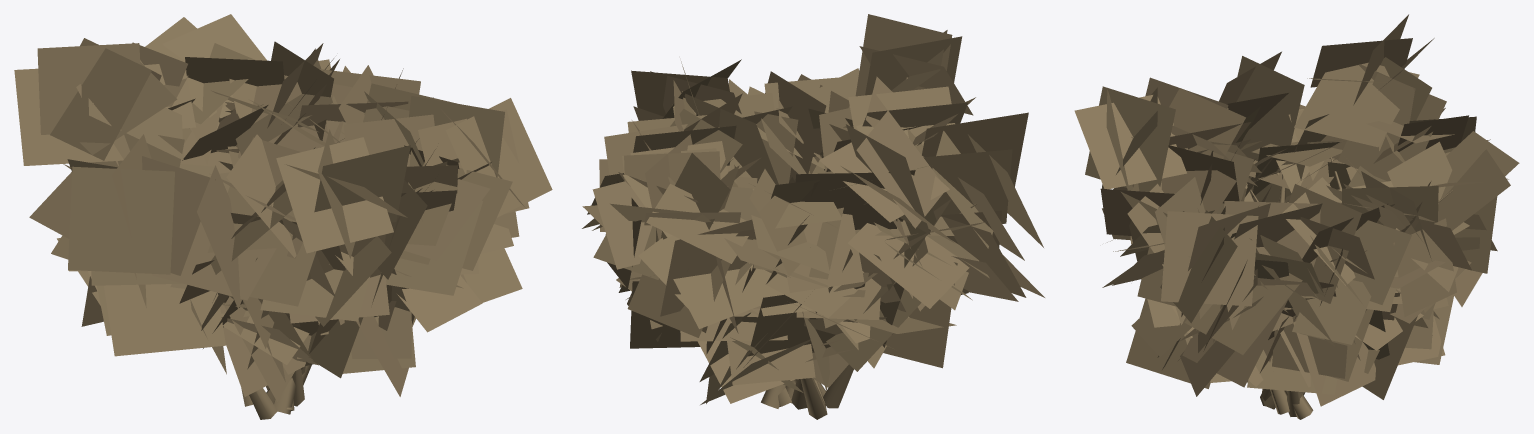
File: bush-1-lod0.glb
The picture shows the model from 3 angles, left to right: view 1: azimuth 30°, elevation 25°; view 2: azimuth 150°, elevation 25°; view 3: azimuth 270°, elevation 25°; orthographic projection. The views are drawn at different scales.
Parts seen in each view (by area): view 1: bush-1-lod0-bush-foliage, bush-1-lod0-oak-bark; view 2: bush-1-lod0-bush-foliage, bush-1-lod0-oak-bark; view 3: bush-1-lod0-bush-foliage, bush-1-lod0-oak-bark.
Part boxes in pixels (x1,y1,x2,y2): bush-1-lod0-bush-foliage: [14, 14, 552, 401]; bush-1-lod0-oak-bark: [241, 264, 330, 419]; bush-1-lod0-bush-foliage: [582, 14, 1044, 404]; bush-1-lod0-oak-bark: [761, 77, 976, 419]; bush-1-lod0-bush-foliage: [1074, 14, 1519, 406]; bush-1-lod0-oak-bark: [1131, 137, 1453, 419].
Bounding box in the file's own units: 3.17 × 2.36 × 2.99.
